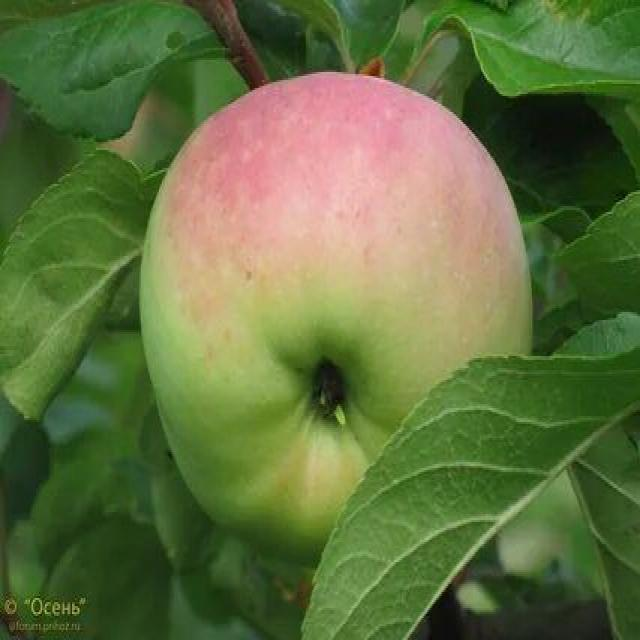Fresh Apple: (127, 78, 530, 550)
